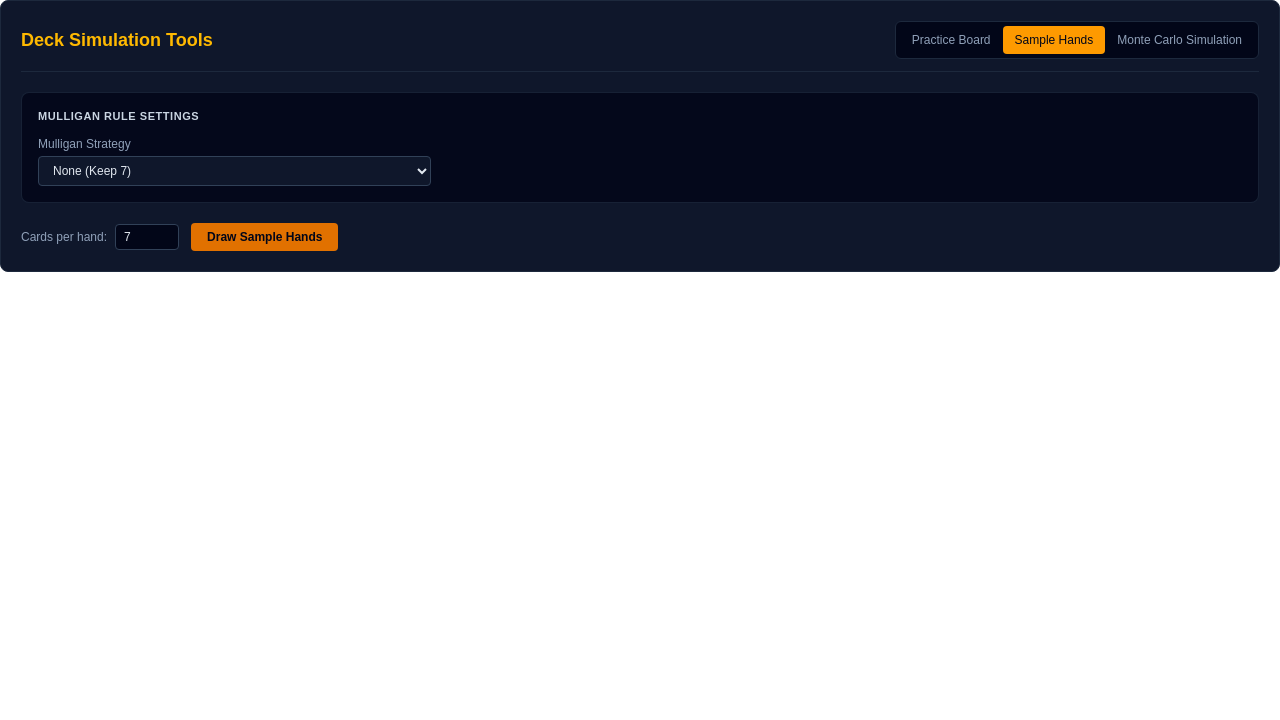
DeckSimulationPanel Component › renders working glossary cross-links in simulation rules notes
Click the button "Monte Carlo Simulation" at (1180, 40), box 1105,26 -> 1254,54
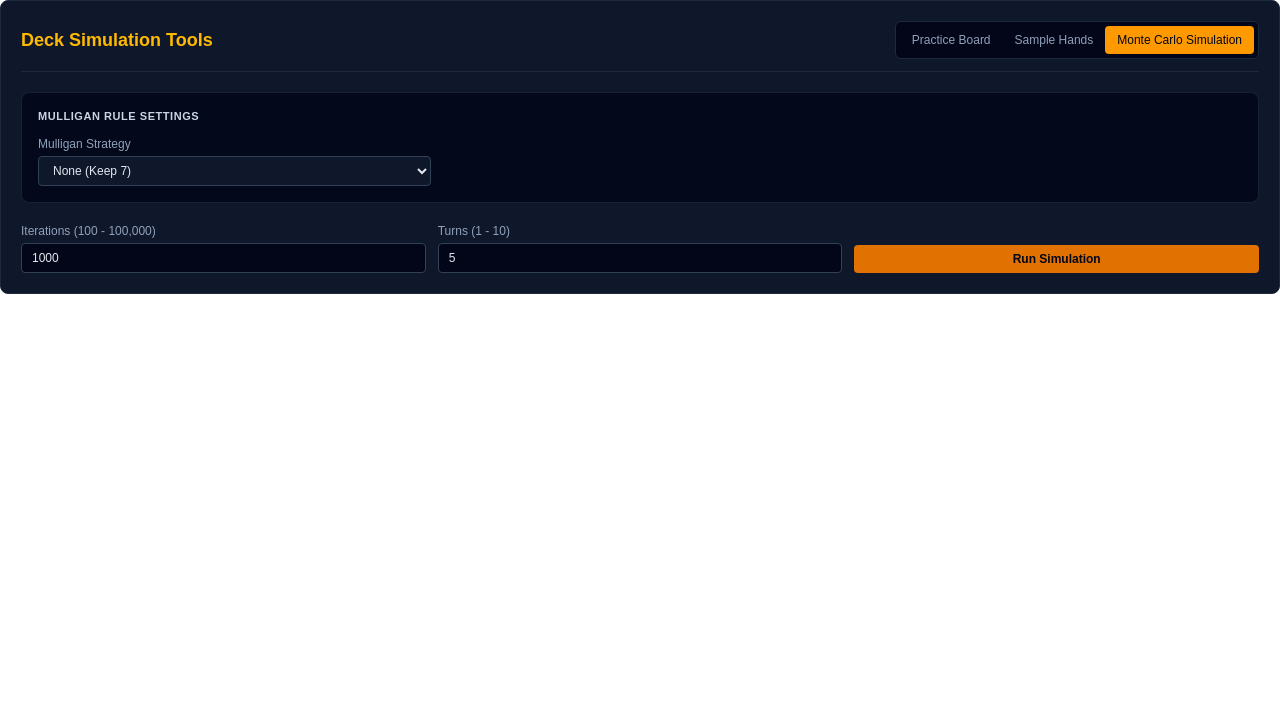
Click the button "Run Simulation" at (1057, 259), box 854,245 -> 1259,273
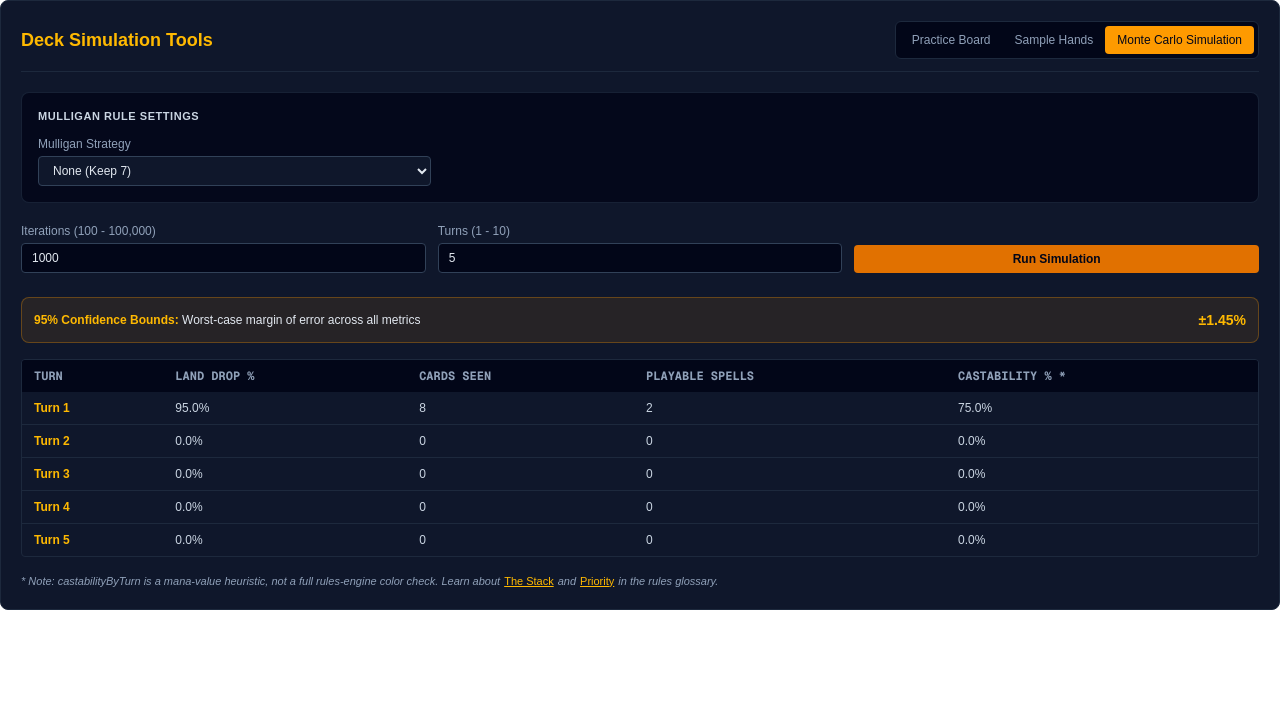
Expected: the link "The Stack" is shown, 504,573 -> 554,589
